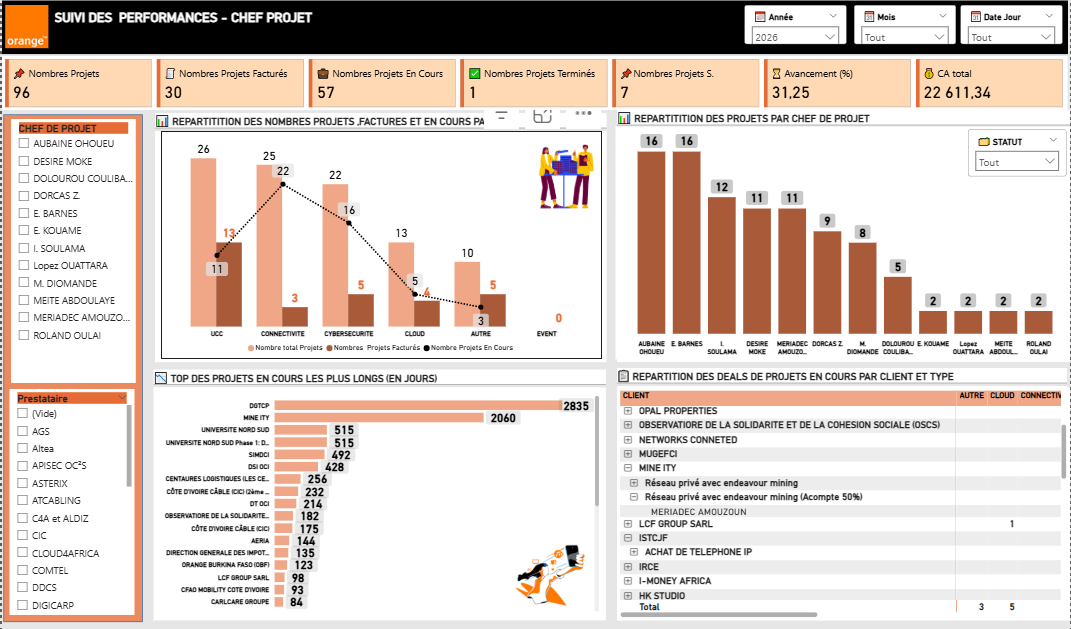

The page's visual inventory and layout, read from the dashboard file:
{"tool":"powerbi","page":{"name":"FINAL ","canvas":[1780,1050],"ordinal":2},"visuals":[{"type":"shape","box":[0,1.9,1777,89.6],"z":0},{"type":"image","box":[0,0,82.6,92.2],"z":1000},{"type":"slicer","fields":{"Values":["CALENDRIER.Année"]},"box":[1237.5,11.2,169.9,65.3],"z":2000},{"type":"slicer","fields":{"Values":["CALENDRIER.Nom du Mois"]},"box":[1420.5,11.2,169.9,65.3],"z":3000},{"type":"slicer","fields":{"Values":["CALENDRIER.Date Jour"]},"box":[1597.8,11.2,169.9,65.3],"z":4000},{"type":"shape","box":[2,192,232,846],"z":5000},{"type":"slicer","fields":{"Values":["BASE-PROJETS COMPLEXES ICT.CHEF DE PROJET"]},"box":[14,200,208,440],"z":6000},{"type":"shape","title":"📊 REPARTITITION DES NOMBRES PROJETS ,FACTURES ET  EN COURS  PAR TYPE       ","box":[254.5,189.2,752.6,415.5],"z":7000},{"type":"slicer","fields":{"Values":["BASE-PROJETS COMPLEXES ICT.Prestataire"]},"box":[12,650,208,376],"z":8000},{"type":"lineClusteredColumnComboChart","fields":{"Category":["BASE-PROJETS COMPLEXES ICT.TYPE"],"Y":["MESURE.Nb Projets","MESURE.Nombres  Projets Facturés"],"Y2":["MESURE.Nb Projets En Cours"]},"box":[264.3,219,735.7,381],"z":9000},{"type":"shape","title":"📊 REPARTITITION DES PROJETS PAR CHEF DE  PROJET","box":[1024.5,184.9,754.8,419.8],"z":10000},{"type":"textbox","box":[82,12,486,54],"z":11000},{"type":"lineClusteredColumnComboChart","fields":{"Y":["MESURE.Nb Projets"],"Category":["BASE-PROJETS COMPLEXES ICT.CHEF DE PROJET"]},"box":[1022.8,211.9,757.1,388.1],"z":12000},{"type":"slicer","fields":{"Values":["BASE-PROJETS COMPLEXES ICT.STATUT"]},"box":[1610,218,164,78],"z":13000},{"type":"shape","title":"📉 TOP DES PROJETS EN COURS LES PLUS LONGS (EN JOURS) ","box":[252,618,754,418],"z":14000},{"type":"shape","title":"📋  REPARTITION DES DEALS DE PROJETS EN COURS PAR CLIENT ET TYPE ","box":[1024,616,750,420],"z":15000},{"type":"pivotTable","fields":{"Rows":["BASE-PROJETS COMPLEXES ICT.CLIENT","BASE-PROJETS COMPLEXES ICT.INTITULE  DU PROJET","BASE-PROJETS COMPLEXES ICT.CHEF DE PROJET"],"Values":["MESURE.Nb Projets En Cours"],"Columns":["BASE-PROJETS COMPLEXES ICT.TYPE"]},"box":[1024,648,754,388],"z":16000},{"type":"clusteredBarChart","fields":{"Category":["BASE-PROJETS COMPLEXES ICT.CLIENT"],"Y":["MESURE.Durée_Projets_EnCours"]},"box":[254.8,647.6,745.2,378.6],"z":17000},{"type":"cardVisual","fields":{"Data":["MESURE.Nb Projets","MESURE.Nombres  Projets Facturés","MESURE.Nb Projets En Cours","MESURE.Nb Projets Terminés","MESURE.Nb Projets suspendu","MESURE.Avancement (%)","MESURE.CA total"]},"box":[0,94,1776,90],"z":18000},{"type":"image","box":[880,228,120,136],"z":19000},{"type":"image","box":[828,884,172,154],"z":20000}]}

Visuals, with their boxes in screenshot pixels (x1, y1, x2, y2), scaled from the page's 1780x1050 canvas onto the 1071x629 screenshot:
shape: (x1=0, y1=1, x2=1069, y2=55)
image: (x1=0, y1=0, x2=50, y2=55)
slicer - CALENDRIER.Année: (x1=745, y1=7, x2=847, y2=46)
slicer - CALENDRIER.Nom du Mois: (x1=855, y1=7, x2=957, y2=46)
slicer - CALENDRIER.Date Jour: (x1=961, y1=7, x2=1064, y2=46)
shape: (x1=1, y1=115, x2=141, y2=622)
slicer - BASE-PROJETS COMPLEXES ICT.CHEF DE PROJET: (x1=8, y1=120, x2=134, y2=383)
"📊 REPARTITITION DES NOMBRES PROJETS ,FACTURES ET  EN COURS  PAR TYPE       " shape: (x1=153, y1=113, x2=606, y2=362)
slicer - BASE-PROJETS COMPLEXES ICT.Prestataire: (x1=7, y1=389, x2=132, y2=615)
lineClusteredColumnComboChart - BASE-PROJETS COMPLEXES ICT.TYPE x MESURE.Nb Projets: (x1=159, y1=131, x2=602, y2=359)
"📊 REPARTITITION DES PROJETS PAR CHEF DE  PROJET" shape: (x1=616, y1=111, x2=1070, y2=362)
textbox: (x1=49, y1=7, x2=342, y2=40)
lineClusteredColumnComboChart - MESURE.Nb Projets x BASE-PROJETS COMPLEXES ICT.CHEF DE PROJET: (x1=615, y1=127, x2=1070, y2=359)
slicer - BASE-PROJETS COMPLEXES ICT.STATUT: (x1=969, y1=131, x2=1067, y2=177)
"📉 TOP DES PROJETS EN COURS LES PLUS LONGS (EN JOURS) " shape: (x1=152, y1=370, x2=605, y2=621)
"📋  REPARTITION DES DEALS DE PROJETS EN COURS PAR CLIENT ET TYPE " shape: (x1=616, y1=369, x2=1067, y2=621)
pivotTable - BASE-PROJETS COMPLEXES ICT.CLIENT x BASE-PROJETS COMPLEXES ICT.INTITULE  DU PROJET: (x1=616, y1=388, x2=1070, y2=621)
clusteredBarChart - BASE-PROJETS COMPLEXES ICT.CLIENT x MESURE.Durée_Projets_EnCours: (x1=153, y1=388, x2=602, y2=615)
cardVisual - MESURE.Nb Projets x MESURE.Nombres  Projets Facturés: (x1=0, y1=56, x2=1069, y2=110)
image: (x1=529, y1=137, x2=602, y2=218)
image: (x1=498, y1=530, x2=602, y2=622)
